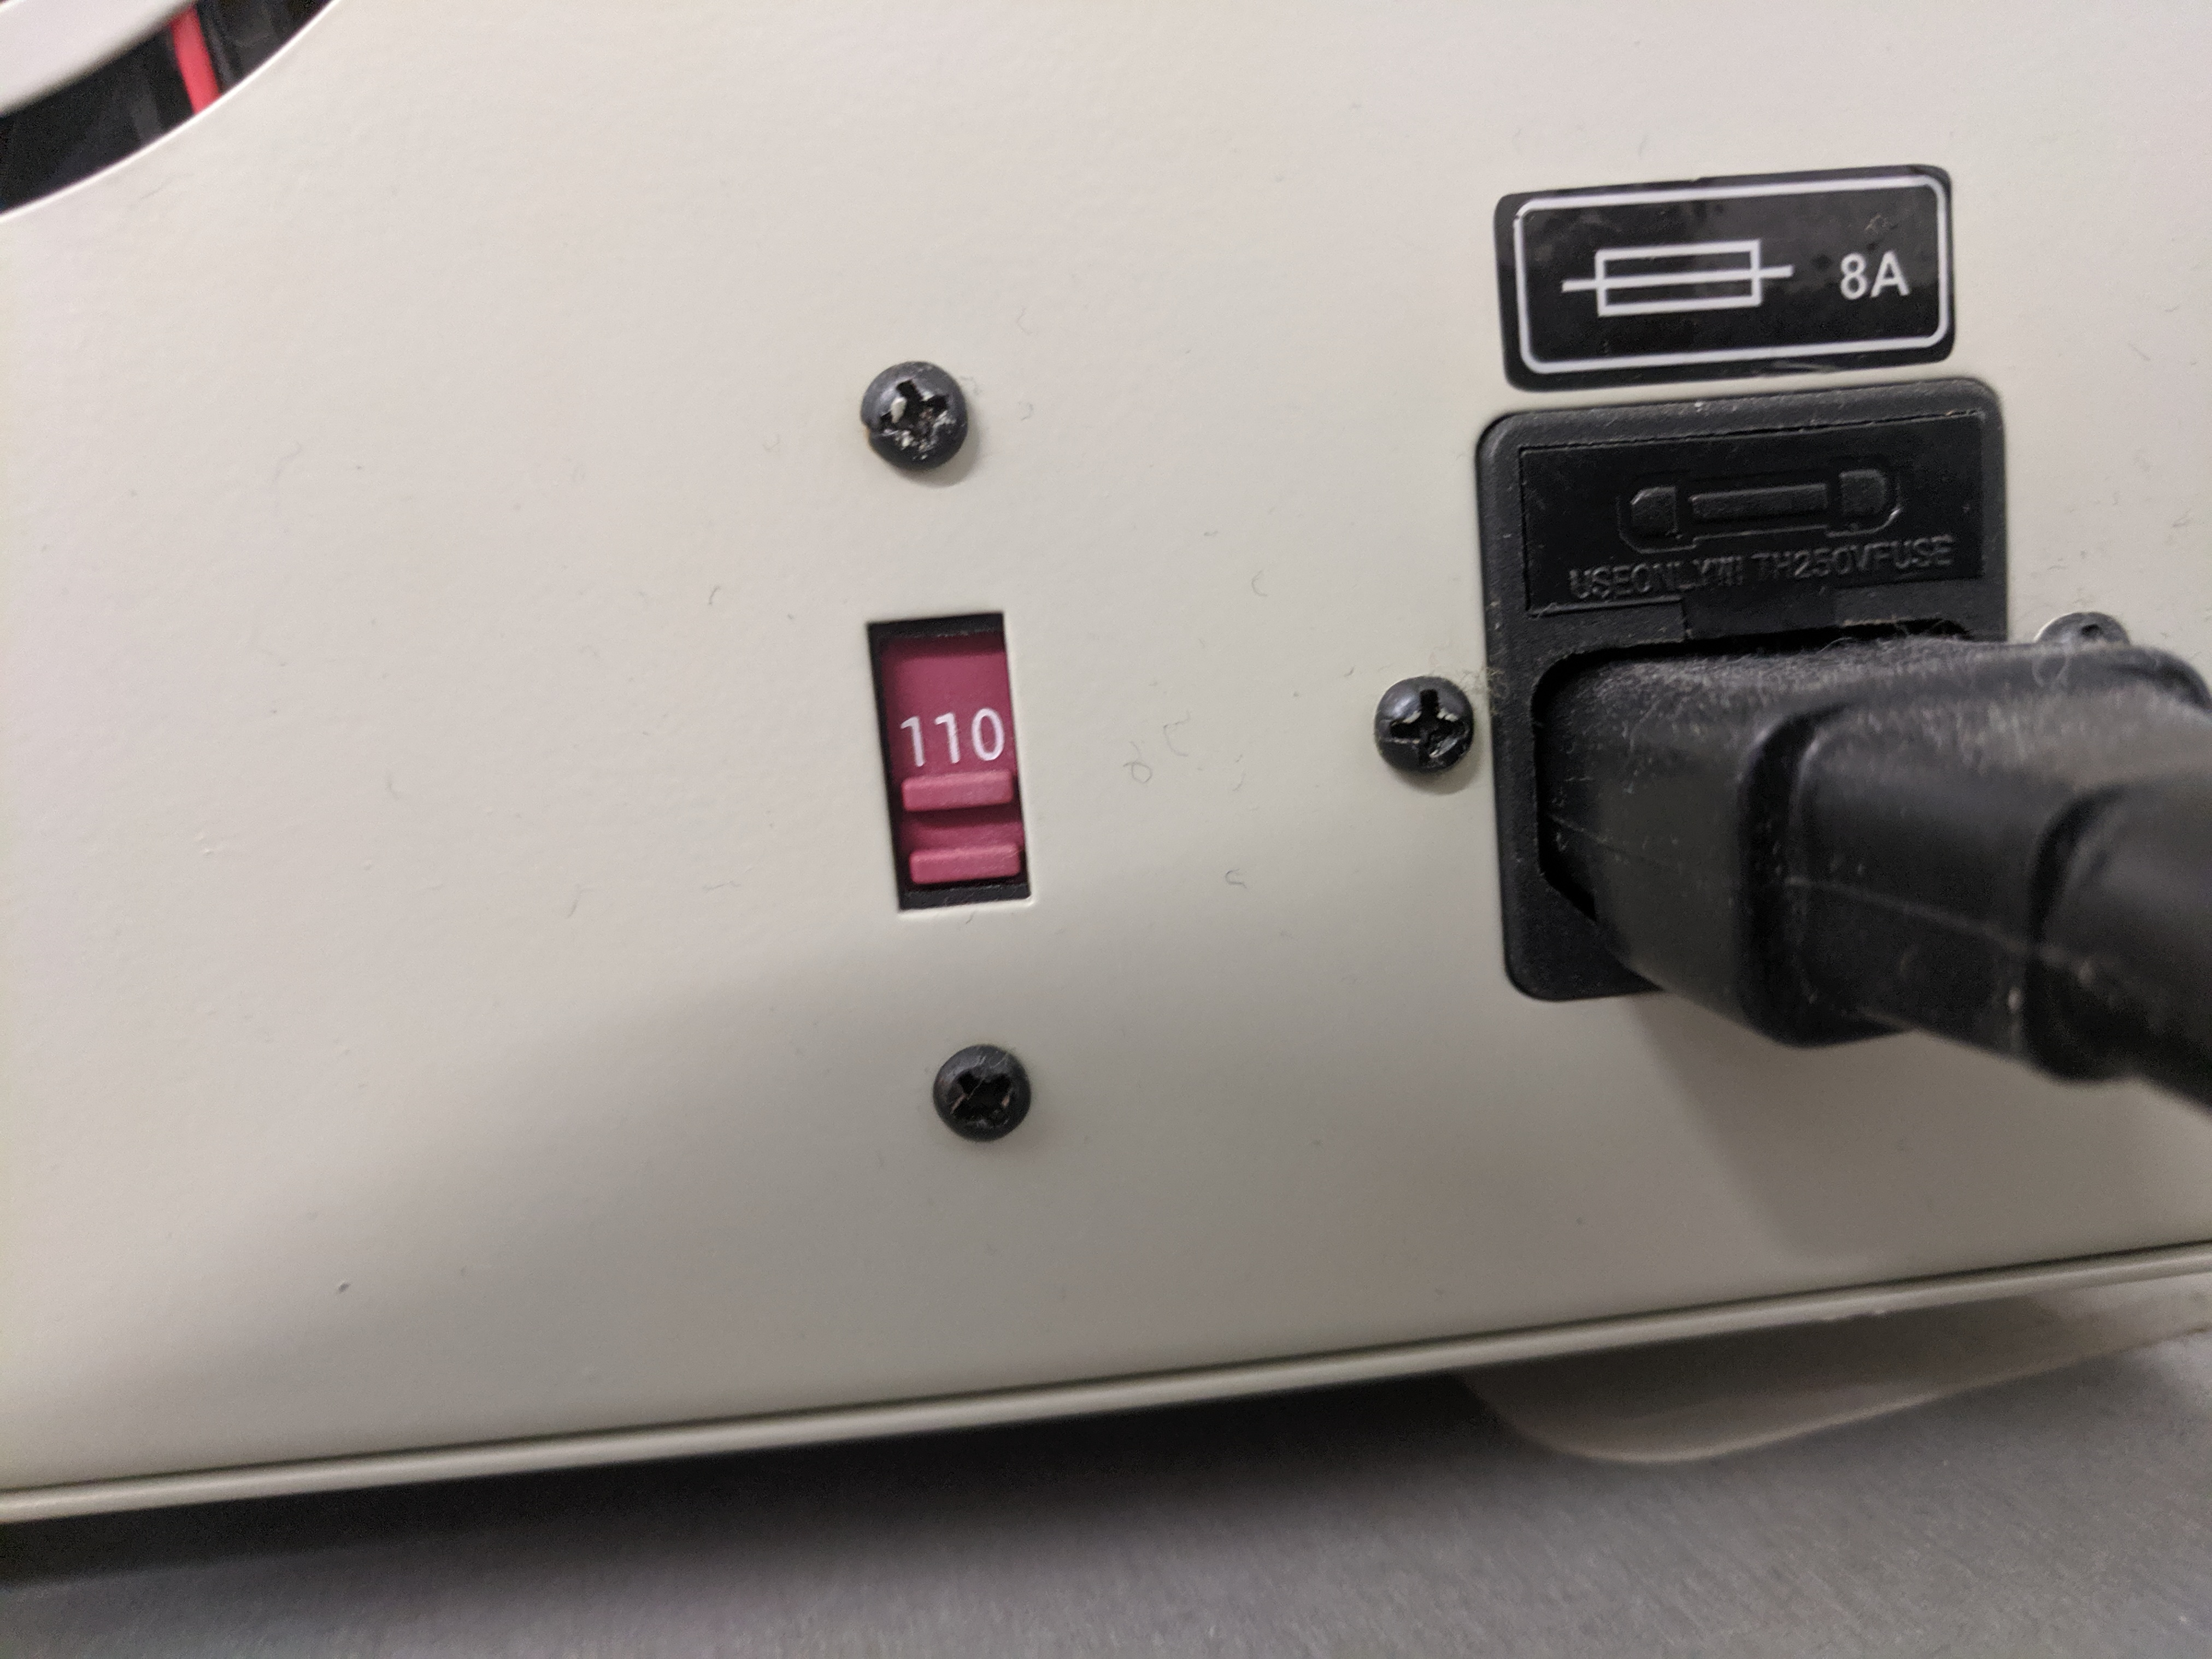cross_recessed_screw: (846, 359, 975, 474), (923, 1044, 1040, 1148), (1364, 674, 1475, 782)
